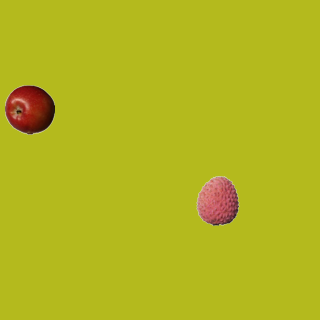Apple Braeburn: (4, 84, 54, 134)
Lychee: (192, 175, 242, 225)
